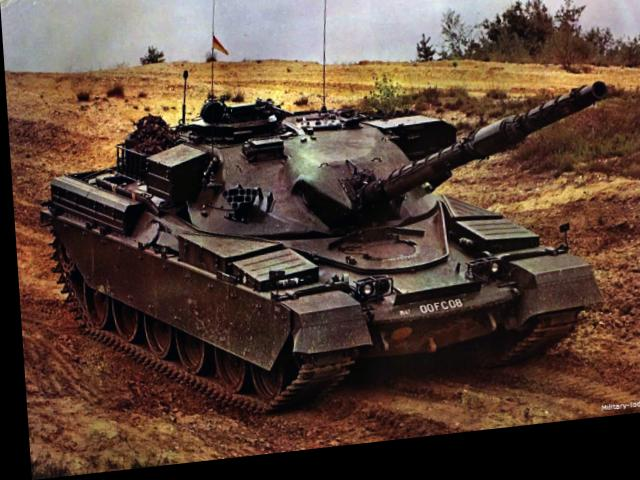tank: (31, 101, 590, 439)
